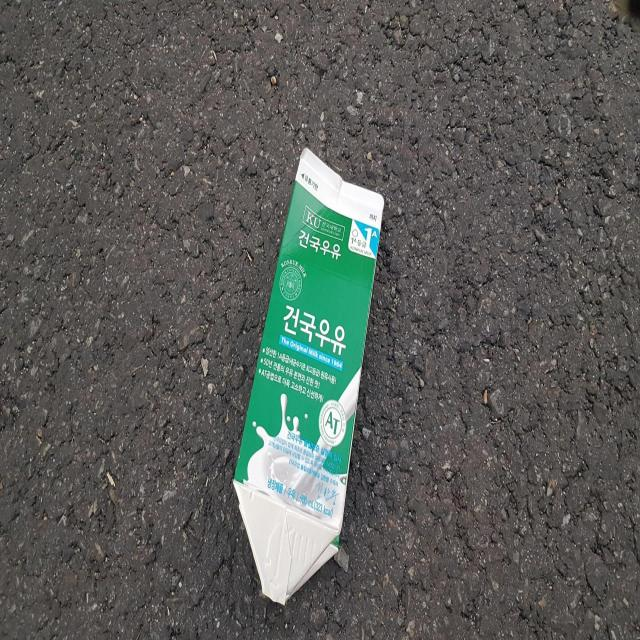paperpack: (234, 147, 384, 605)
